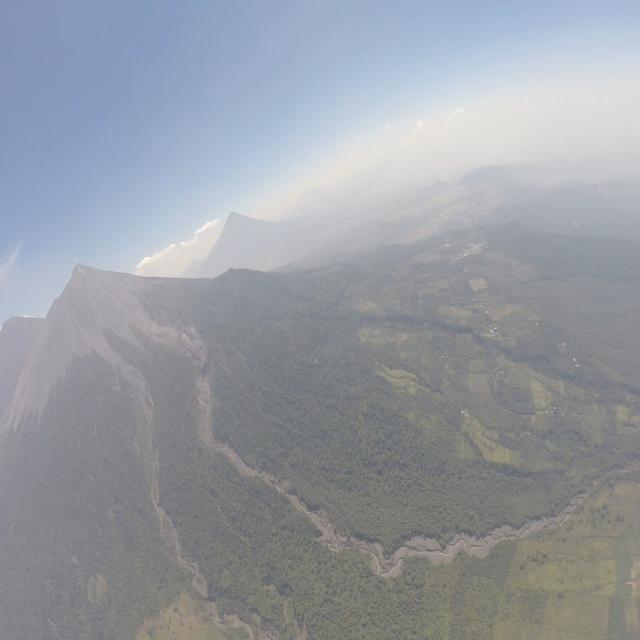Summit: (66, 260, 92, 278)
